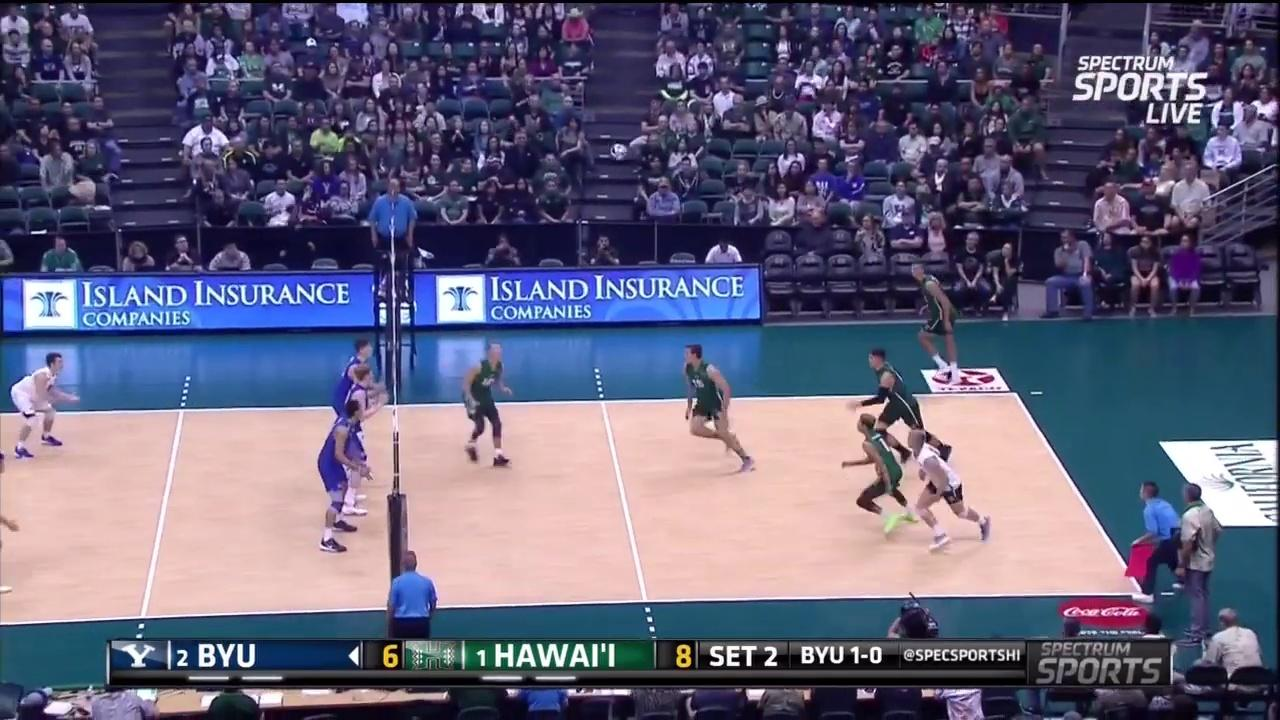player: (851, 341, 959, 461), (835, 410, 918, 536), (911, 429, 989, 550), (686, 349, 759, 472), (901, 258, 970, 385), (316, 401, 369, 561), (332, 366, 385, 523), (331, 338, 382, 486), (6, 355, 78, 456), (463, 345, 514, 467)
refree: (1122, 472, 1186, 602), (366, 171, 423, 304), (387, 545, 440, 652)
